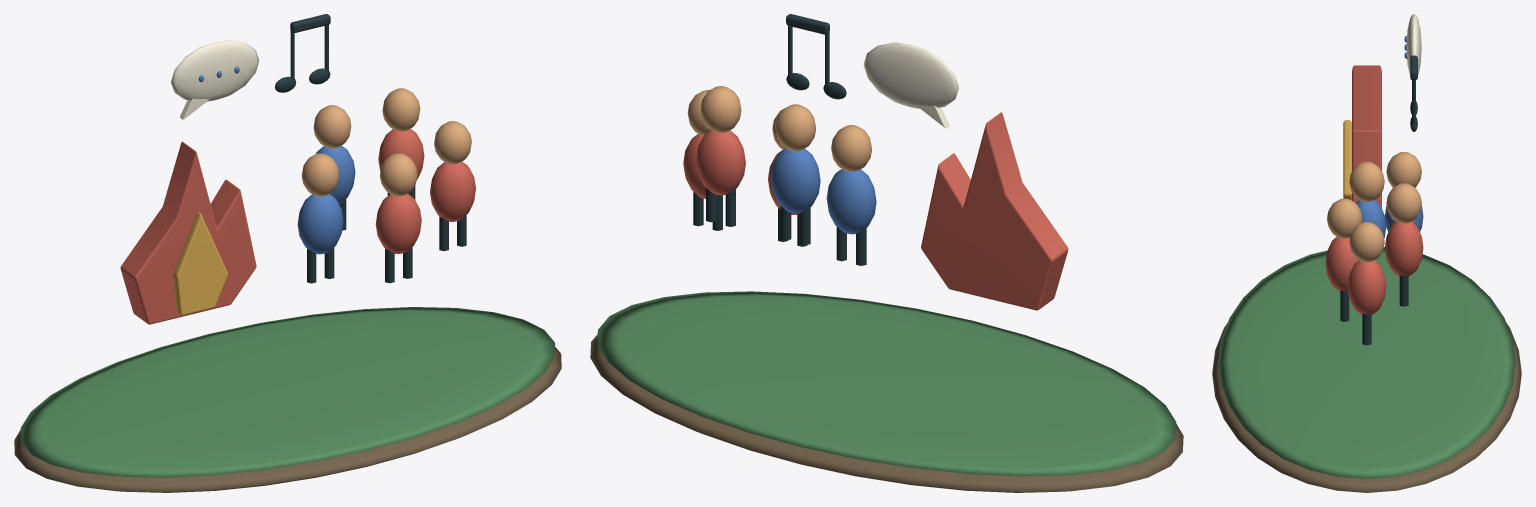
Rendered from complete-third-hot-busy-party.glb.
The picture shows the model from 3 angles, left to right: view 1: azimuth 30°, elevation 25°; view 2: azimuth 150°, elevation 25°; view 3: azimuth 270°, elevation 25°; orthographic projection. The views are drawn at different scales.
Visible parts, largest first — view 1: complete-third-hot-busy-party_surface_01, complete-third-hot-busy-party_surface_02, complete-third-hot-busy-party_surface_00, complete-third-hot-busy-party_surface_04, complete-third-hot-busy-party_surface_07, complete-third-hot-busy-party_surface_03, complete-third-hot-busy-party_surface_06, complete-third-hot-busy-party_surface_05; view 2: complete-third-hot-busy-party_surface_01, complete-third-hot-busy-party_surface_02, complete-third-hot-busy-party_surface_00, complete-third-hot-busy-party_surface_04, complete-third-hot-busy-party_surface_05, complete-third-hot-busy-party_surface_07, complete-third-hot-busy-party_surface_06; view 3: complete-third-hot-busy-party_surface_01, complete-third-hot-busy-party_surface_02, complete-third-hot-busy-party_surface_00, complete-third-hot-busy-party_surface_04, complete-third-hot-busy-party_surface_06, complete-third-hot-busy-party_surface_05, complete-third-hot-busy-party_surface_03, complete-third-hot-busy-party_surface_07.
Boxes of the visible parts, <box> form: complete-third-hot-busy-party_surface_01: <box>20,307,555,477</box>; complete-third-hot-busy-party_surface_02: <box>120,129,475,324</box>; complete-third-hot-busy-party_surface_00: <box>14,347,561,492</box>; complete-third-hot-busy-party_surface_04: <box>301,88,471,196</box>; complete-third-hot-busy-party_surface_07: <box>171,40,259,119</box>; complete-third-hot-busy-party_surface_03: <box>173,212,227,315</box>; complete-third-hot-busy-party_surface_06: <box>275,14,466,283</box>; complete-third-hot-busy-party_surface_05: <box>198,66,355,254</box>; complete-third-hot-busy-party_surface_01: <box>597,291,1176,476</box>; complete-third-hot-busy-party_surface_02: <box>683,112,1068,310</box>; complete-third-hot-busy-party_surface_00: <box>590,334,1183,492</box>; complete-third-hot-busy-party_surface_04: <box>687,86,871,171</box>; complete-third-hot-busy-party_surface_05: <box>770,148,876,234</box>; complete-third-hot-busy-party_surface_07: <box>863,42,958,128</box>; complete-third-hot-busy-party_surface_06: <box>693,14,866,265</box>; complete-third-hot-busy-party_surface_01: <box>1218,247,1515,478</box>; complete-third-hot-busy-party_surface_02: <box>1325,65,1423,315</box>; complete-third-hot-busy-party_surface_00: <box>1212,323,1521,492</box>; complete-third-hot-busy-party_surface_04: <box>1327,152,1421,262</box>; complete-third-hot-busy-party_surface_06: <box>1340,55,1417,345</box>; complete-third-hot-busy-party_surface_05: <box>1356,36,1423,238</box>; complete-third-hot-busy-party_surface_03: <box>1343,120,1351,200</box>; complete-third-hot-busy-party_surface_07: <box>1406,14,1421,75</box>.
Bounding box in the file's own units: 4.56 × 3.09 × 2.5.
